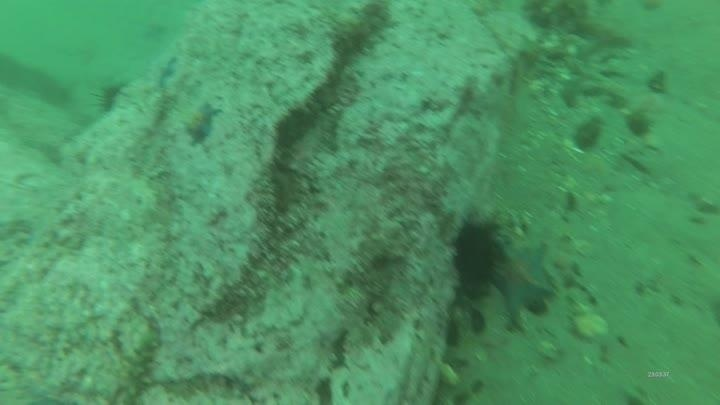echinus: (449, 218, 505, 293), (93, 78, 131, 117)
holothurian: (111, 317, 161, 404)
starfish: (488, 240, 557, 323), (179, 99, 224, 146)
